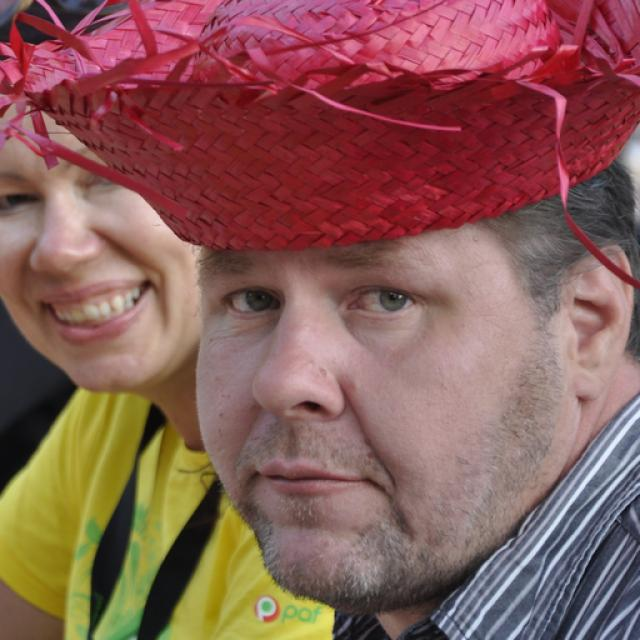Acne: (342, 373, 366, 396), (315, 358, 334, 381), (296, 356, 320, 372)
Wrinkle: (337, 382, 400, 492)
